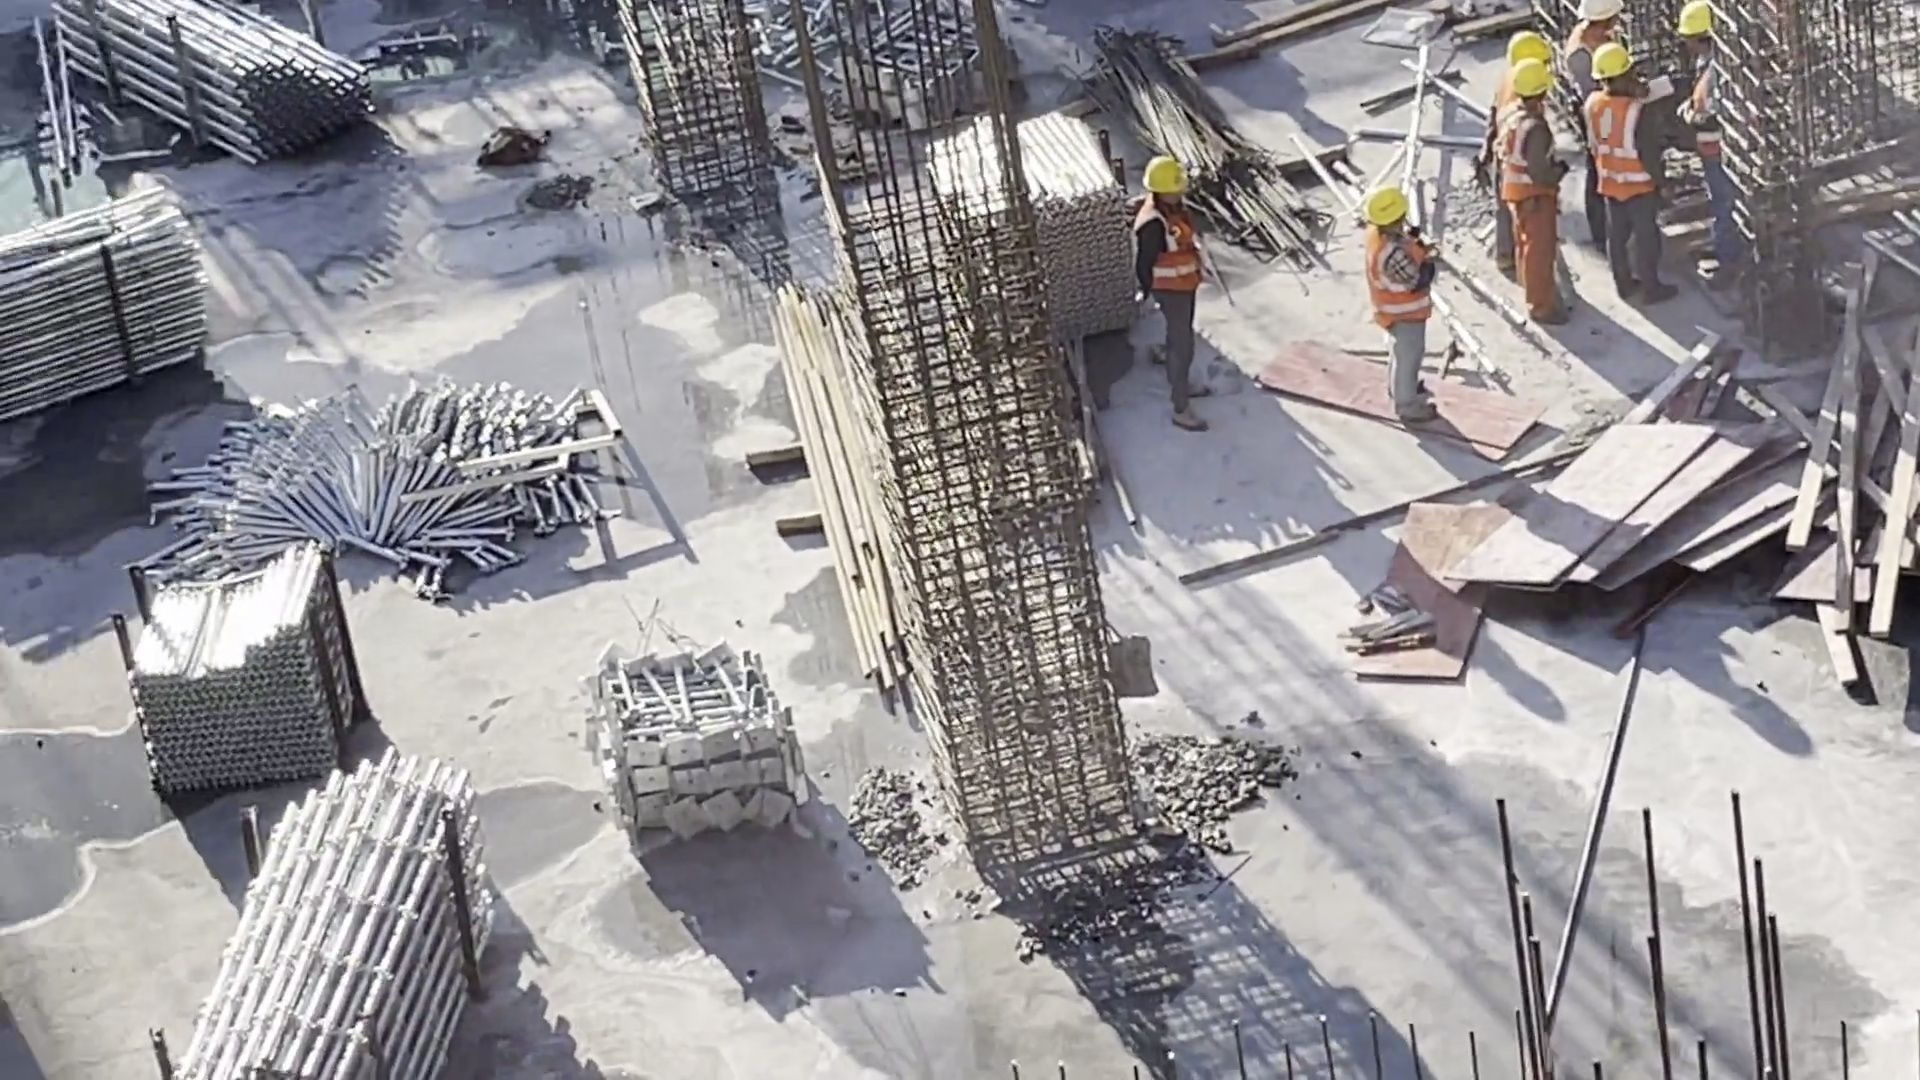board: (1514, 408, 1765, 610)
helmet: (1144, 164, 1196, 203), (1361, 194, 1416, 229), (1517, 63, 1557, 111), (1590, 53, 1634, 88), (1678, 7, 1717, 35), (1515, 33, 1544, 64), (1586, 1, 1632, 19)
person: (1582, 43, 1682, 307), (1132, 158, 1226, 437), (1500, 58, 1582, 331), (1358, 187, 1450, 425), (1675, 1, 1750, 288), (1484, 31, 1556, 275), (1562, 1, 1630, 252)
rebar: (1114, 50, 1281, 226)
scaffold: (213, 391, 629, 595), (218, 763, 460, 1080), (129, 1, 428, 151), (1, 206, 237, 375), (147, 577, 343, 776), (944, 141, 1089, 336)
vest: (1366, 238, 1438, 331), (1138, 211, 1209, 296), (1590, 104, 1640, 204), (1688, 69, 1728, 181), (1497, 127, 1548, 204)
wood: (1788, 370, 1920, 606)
